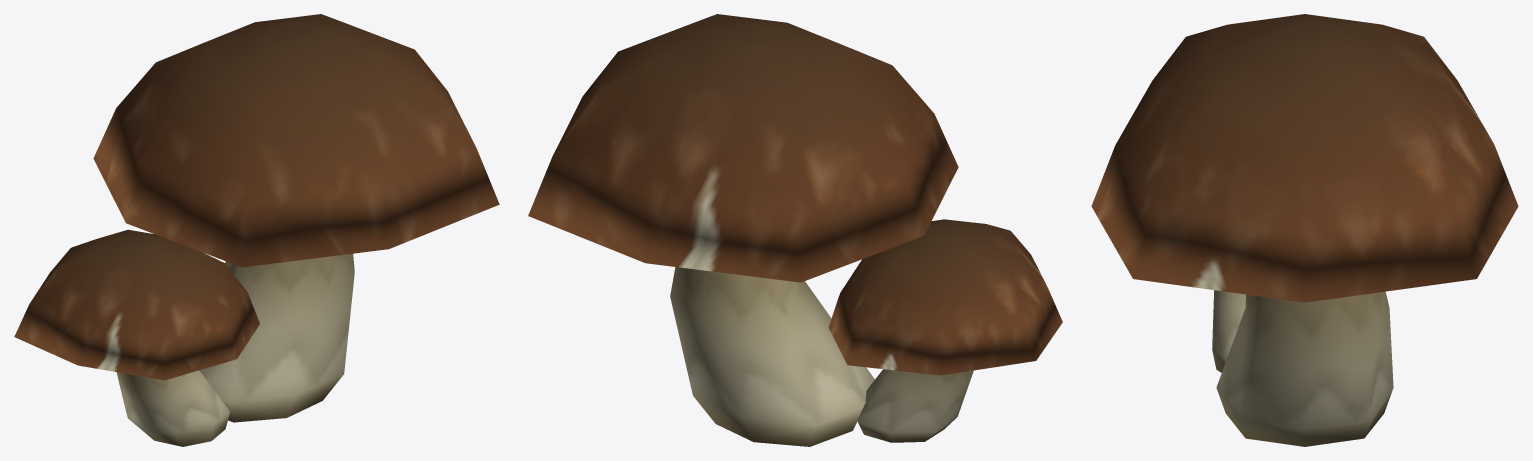
The model's file is EP1_mushroom3.fbx.
The picture shows the model from 3 angles, left to right: view 1: azimuth 30°, elevation 25°; view 2: azimuth 150°, elevation 25°; view 3: azimuth 270°, elevation 25°; orthographic projection. The views are drawn at different scales.
Visible parts, largest first — view 1: group8; view 2: group8; view 3: group8.
Part boxes in pixels (bbox=[...]): group8: bbox=[14, 14, 499, 446]; group8: bbox=[528, 14, 1062, 446]; group8: bbox=[1091, 14, 1518, 446].
Size of the model in its own units: 0.4473 by 0.3307 by 0.3181.
